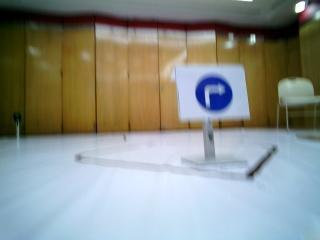right: (180, 68, 246, 119)
